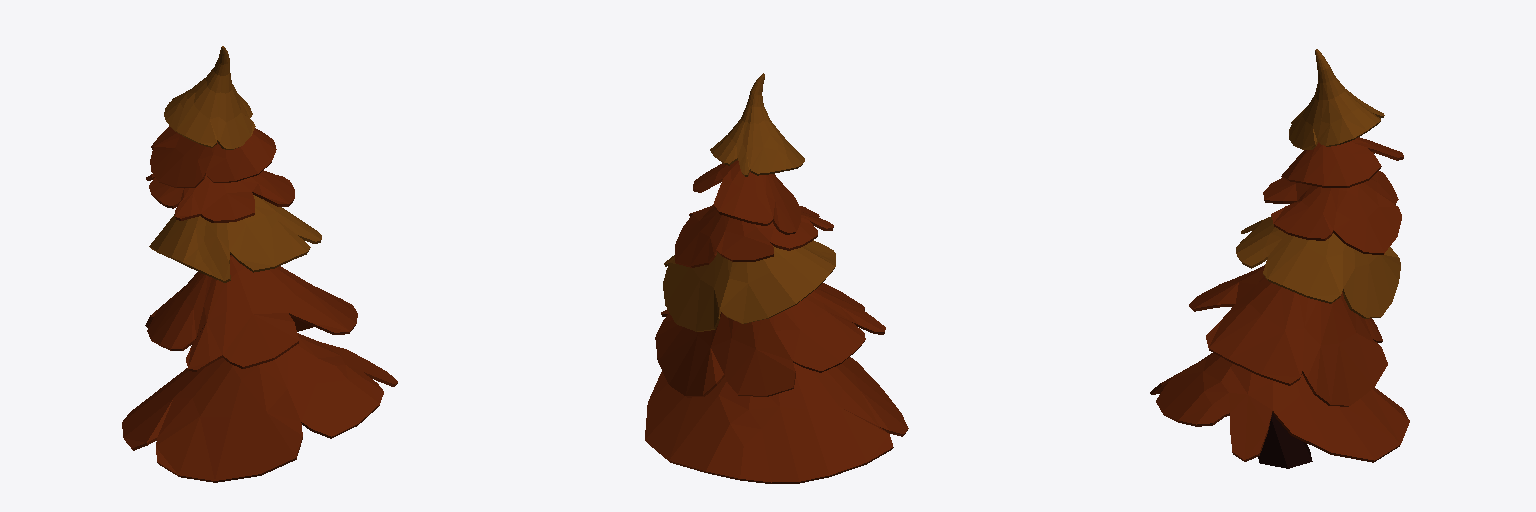
Rendered from PineTree_Autumn_3_Cylinder.obj.
3 views of the same model, side by side, from view 1: azimuth 30°, elevation 25°; view 2: azimuth 150°, elevation 25°; view 3: azimuth 270°, elevation 25° (orthographic).
Parts seen in each view (by area): view 1: PineTree_Autumn_3_Cylinder.063; view 2: PineTree_Autumn_3_Cylinder.063; view 3: PineTree_Autumn_3_Cylinder.063.
Boxes of the visible parts, x1,y1,x2,y2 form: PineTree_Autumn_3_Cylinder.063: [122, 46, 397, 482]; PineTree_Autumn_3_Cylinder.063: [645, 73, 908, 483]; PineTree_Autumn_3_Cylinder.063: [1150, 49, 1409, 468].
Size of the model in its own units: 2.16 by 3.3 by 1.95.